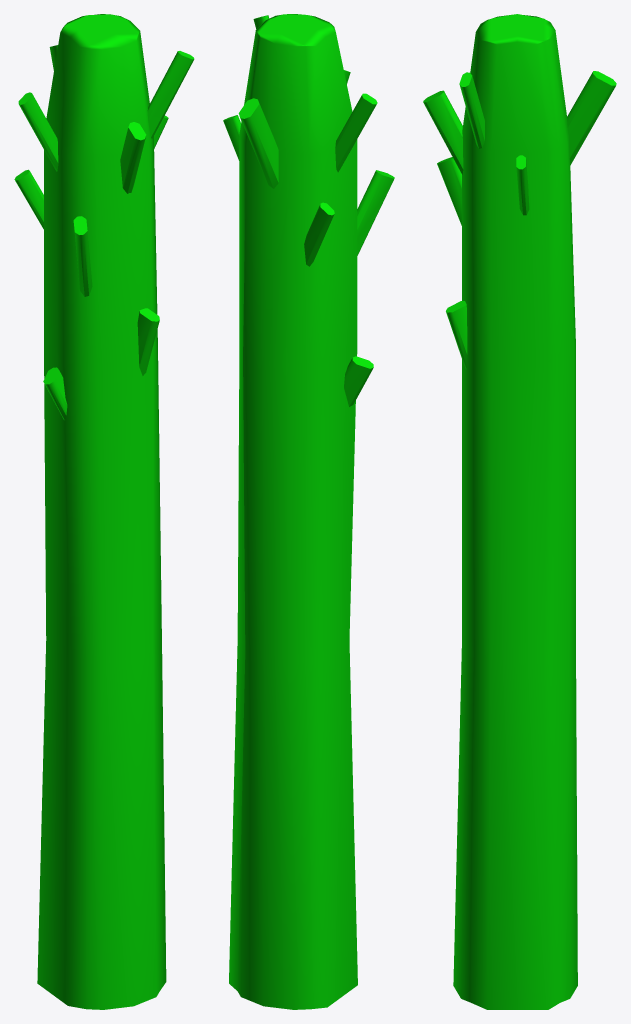
Rendered from sm_Trunk.fbx.
3 renders of one model, left to right at view 1: azimuth 30°, elevation 25°; view 2: azimuth 150°, elevation 25°; view 3: azimuth 270°, elevation 25°, orthographic.
Visible parts, largest first — view 1: sm_Trunk; view 2: sm_Trunk; view 3: sm_Trunk.
Boxes of the visible parts, <box> form: sm_Trunk: <box>14,14,194,1009</box>; sm_Trunk: <box>223,14,394,1009</box>; sm_Trunk: <box>423,14,616,1009</box>.
Bounding box in the file's own units: 27.91 × 170 × 30.9.
